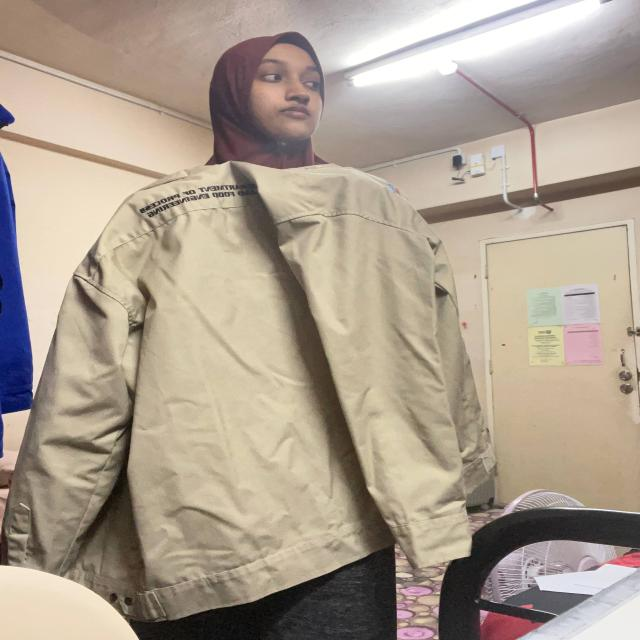person_without_labcoat: (4, 33, 494, 640)
